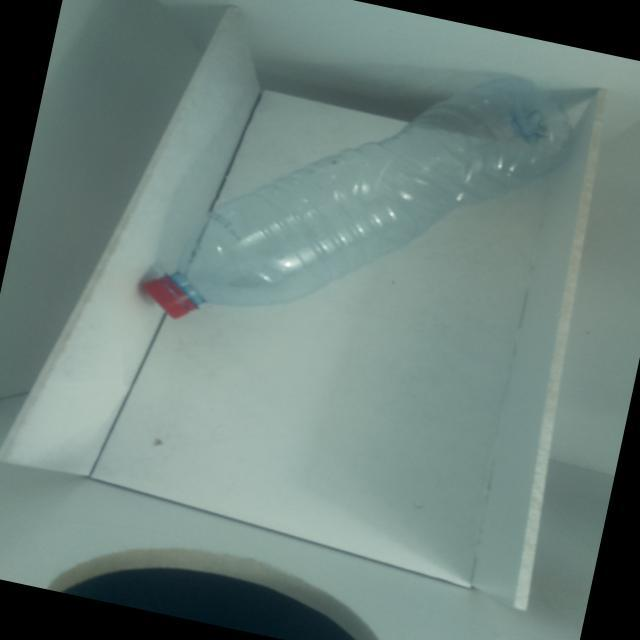good: (130, 5, 588, 396)
